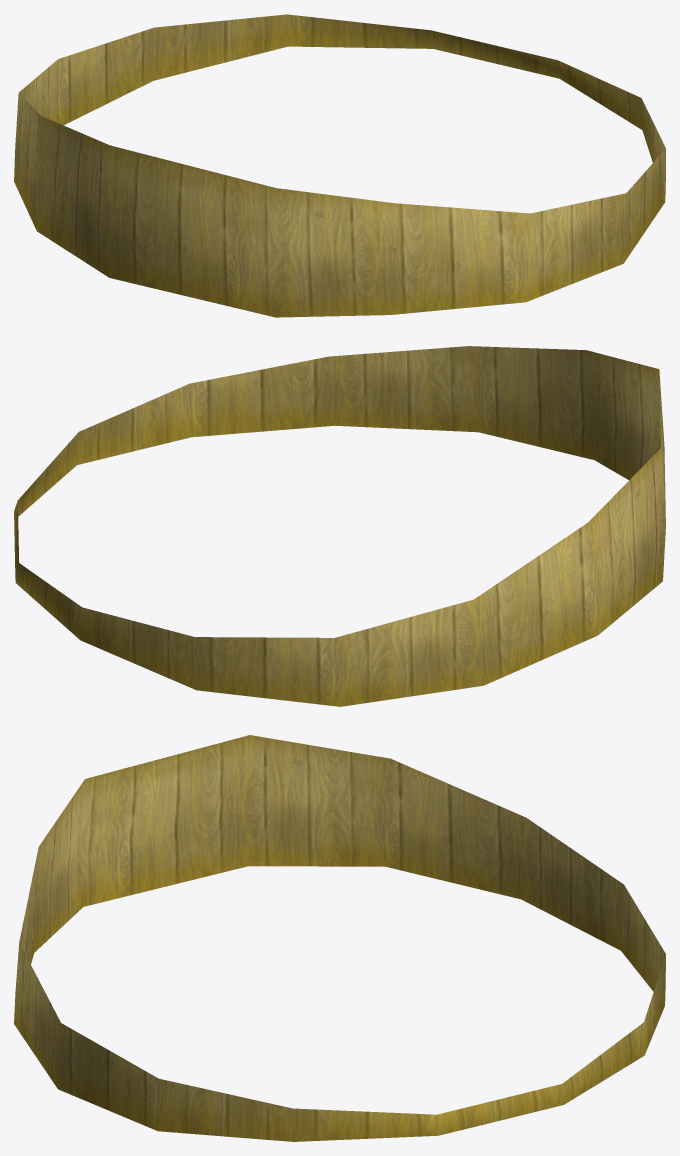
The model's file is HTOWN01_HANNA-WALLS01.fbx.
3 renders of one model, top to bottom at view 1: azimuth 30°, elevation 25°; view 2: azimuth 150°, elevation 25°; view 3: azimuth 270°, elevation 25°, orthographic.
Parts seen in each view (by area): view 1: HTOWN01_HANNA-WALLS01; view 2: HTOWN01_HANNA-WALLS01; view 3: HTOWN01_HANNA-WALLS01.
Part boxes in pixels (box(x1,y1,x2,y2)): HTOWN01_HANNA-WALLS01: box(14, 14, 665, 317); HTOWN01_HANNA-WALLS01: box(14, 346, 665, 706); HTOWN01_HANNA-WALLS01: box(14, 735, 665, 1141).
Size of the model in its own units: 67138 by 17374 by 67616.
1 material, 1 textured.
